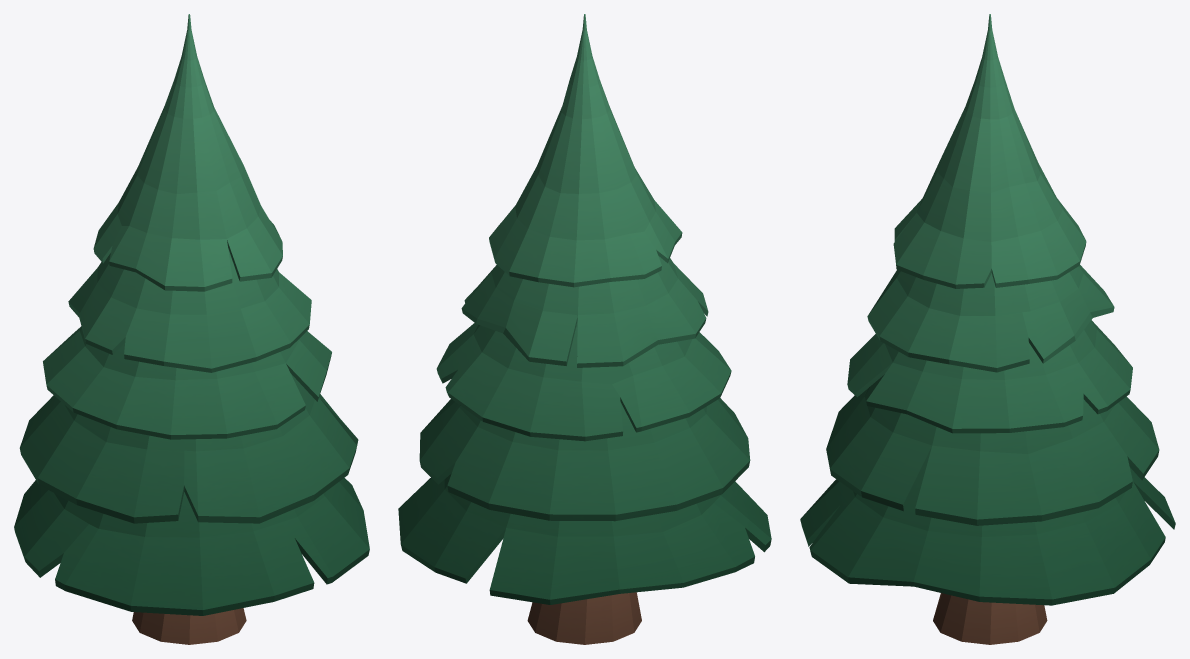
File: drzewo4.fbx
3 renders of one model, left to right at view 1: azimuth 30°, elevation 25°; view 2: azimuth 150°, elevation 25°; view 3: azimuth 270°, elevation 25°, orthographic.
Parts seen in each view (by area): view 1: Circle.013; view 2: Circle.013; view 3: Circle.013.
Boxes of the visible parts, left/top/right/bottom form: Circle.013: left=14, top=14, right=369, bottom=644; Circle.013: left=398, top=14, right=771, bottom=644; Circle.013: left=800, top=14, right=1175, bottom=644.
Bounding box in the file's own units: 250 × 456 × 256.
